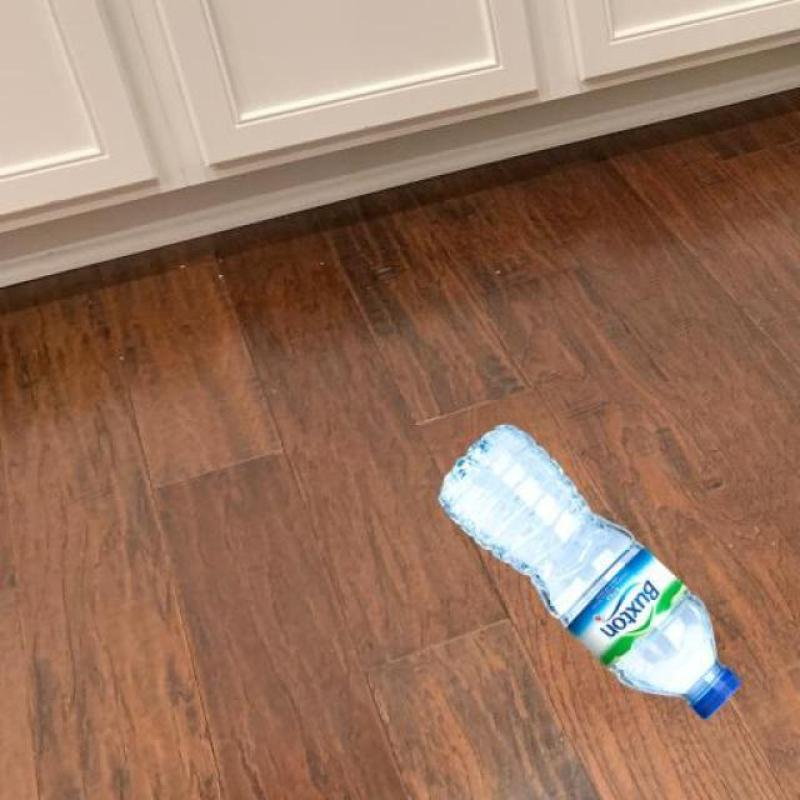botella: (436, 425, 746, 723)
